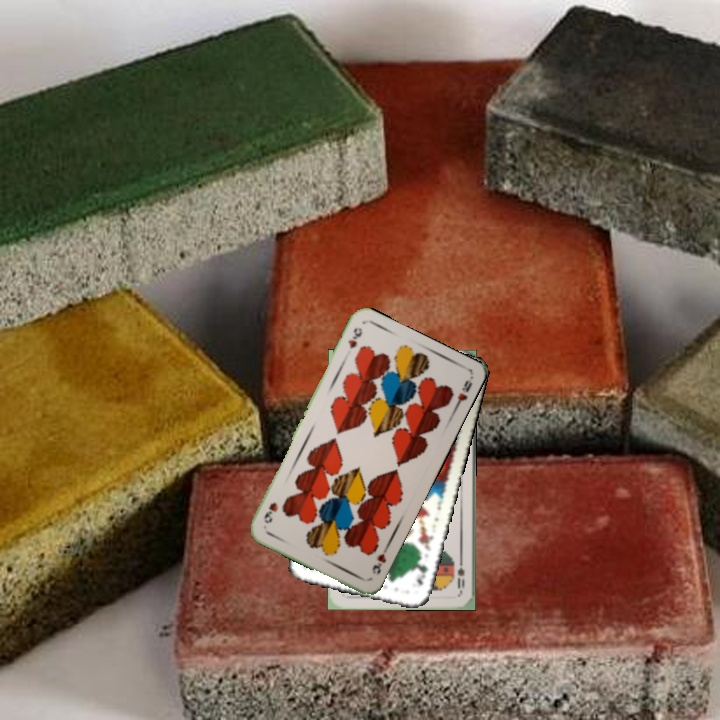GK: (413, 553, 430, 588)
H9: (368, 543, 390, 577), (344, 324, 365, 351)
SO: (453, 553, 467, 594)
